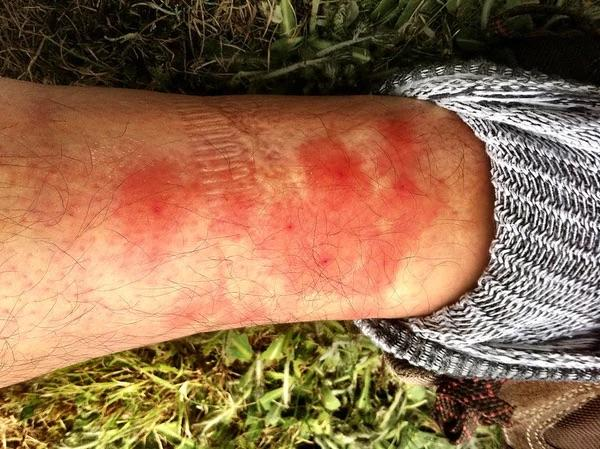Midges: (254, 150, 454, 294), (103, 145, 198, 247), (383, 114, 438, 219), (305, 137, 369, 211), (279, 211, 348, 279)
